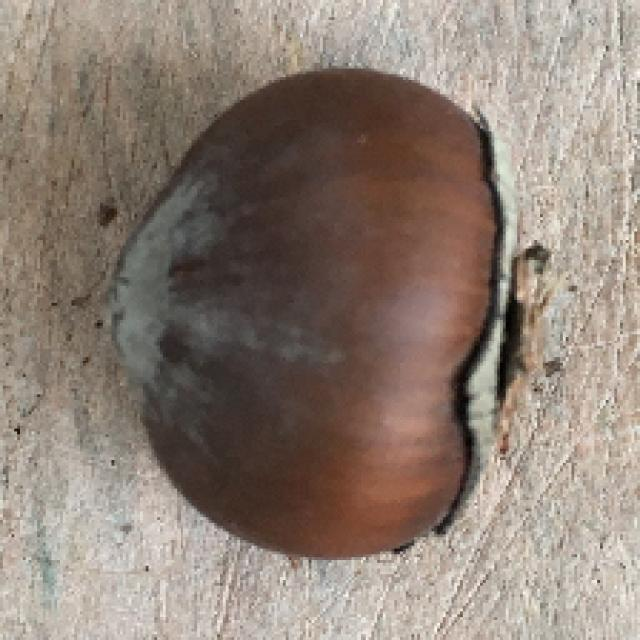damagedHazelnut: (96, 63, 538, 564)
